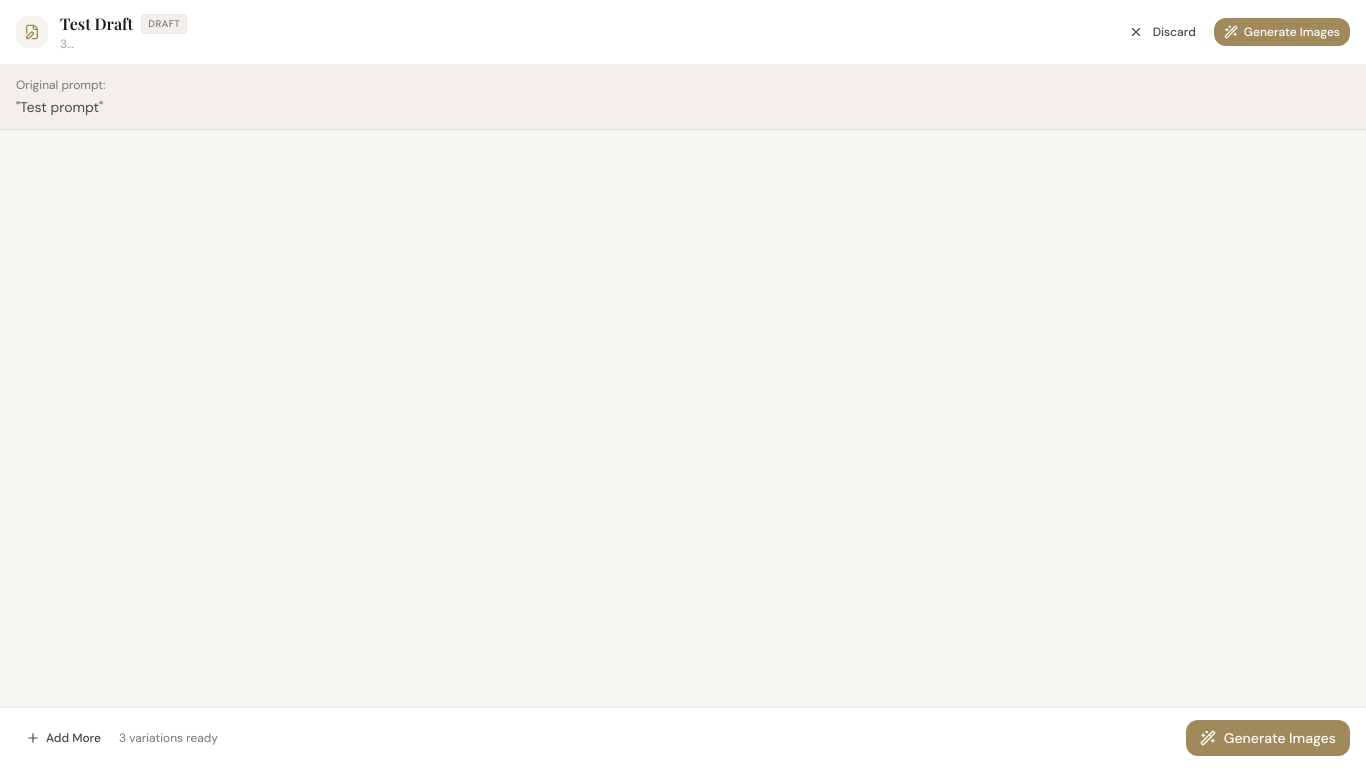
Test: DraftVariationsView › Issue #34: Variation selection and deletion › should update count when selecting variations
Note: Enter selection mode
Click the button titled "Select variations to delete".
click(32, 32)  # box [16,16,48,48]
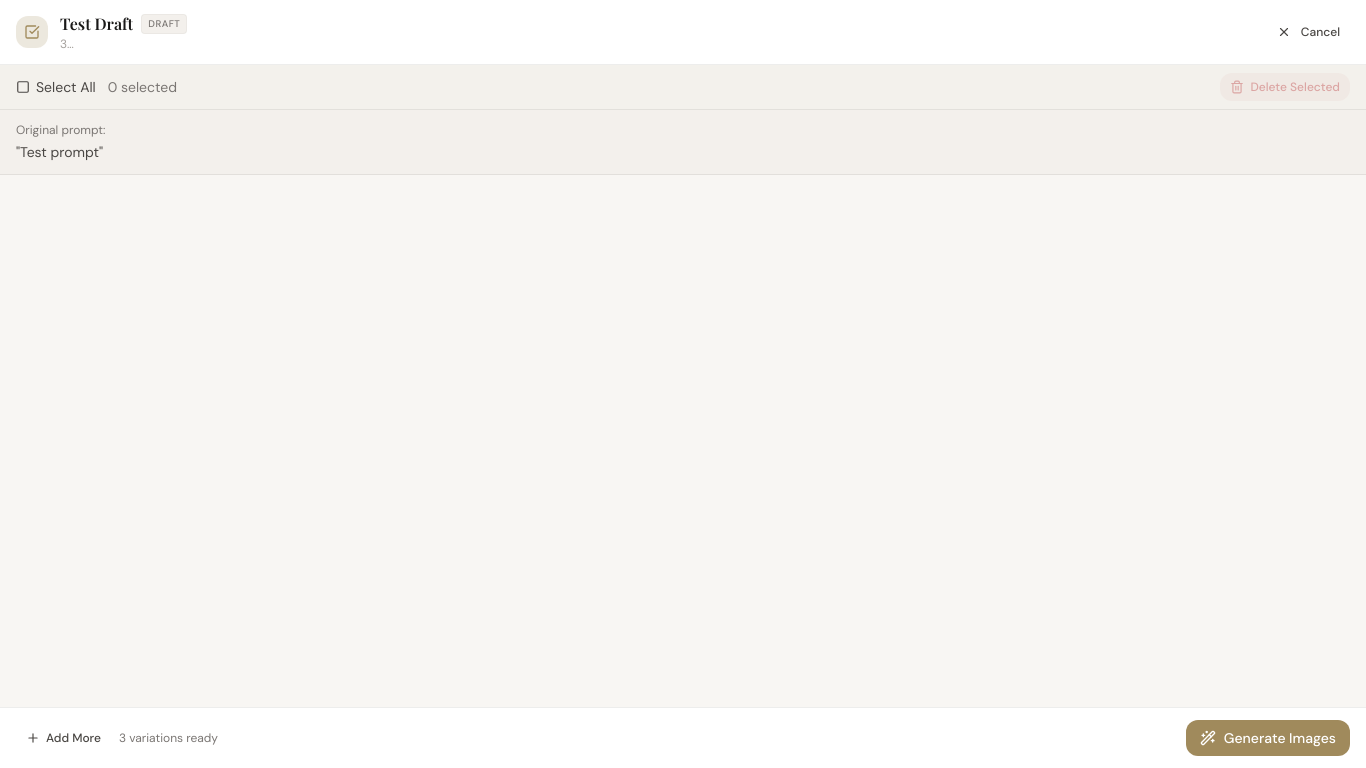
Note: Click Select All
Click the button "Select All".
click(56, 87)  # box [16,77,96,97]
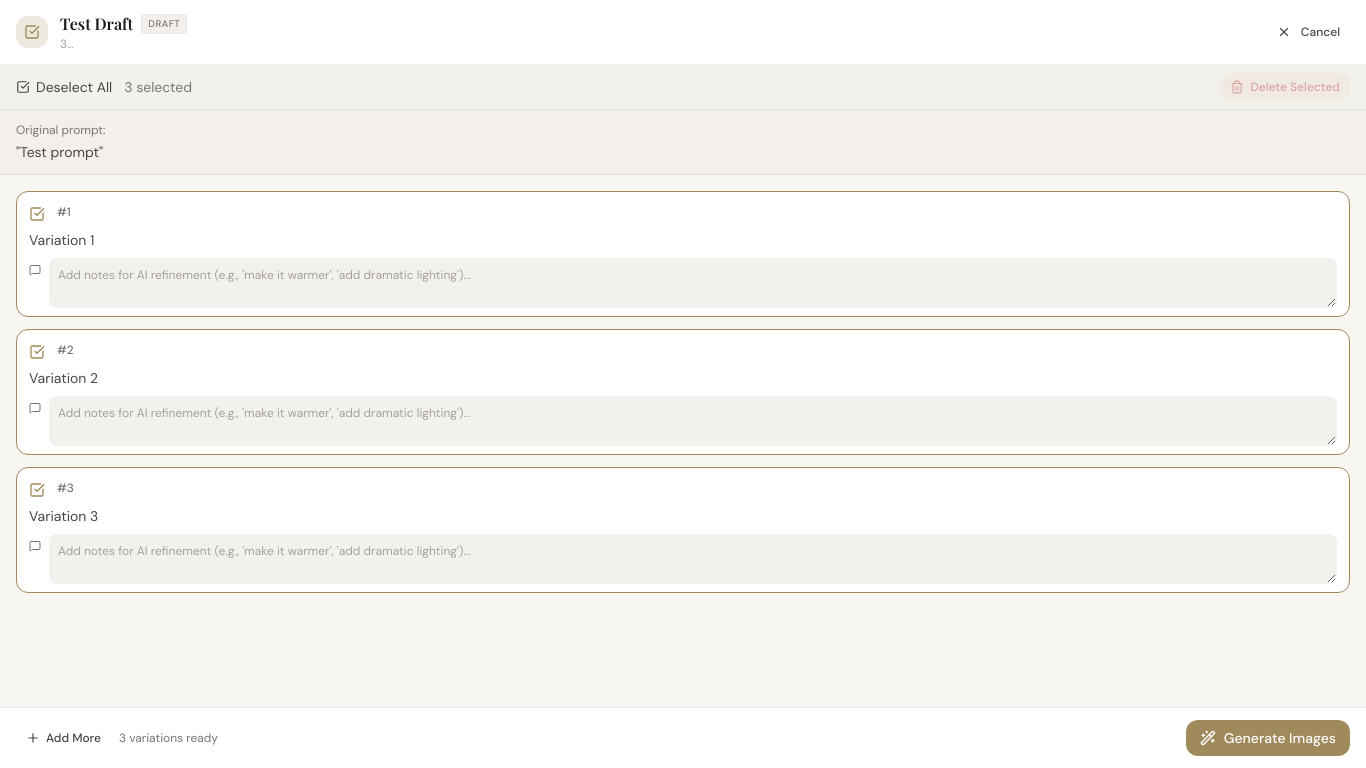
Now the text "3 selected" is shown, box [124,77,192,97]
Now the button "Deselect All" is shown, box [16,77,112,97]
